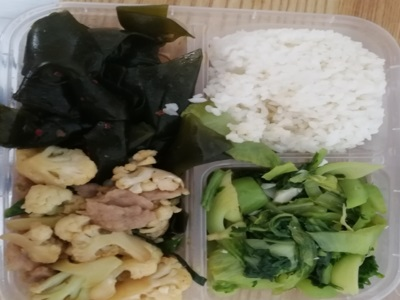cch: (9, 161, 182, 295)
cyc: (221, 169, 371, 288)
hd: (22, 18, 188, 156)
rice: (221, 27, 380, 149)
